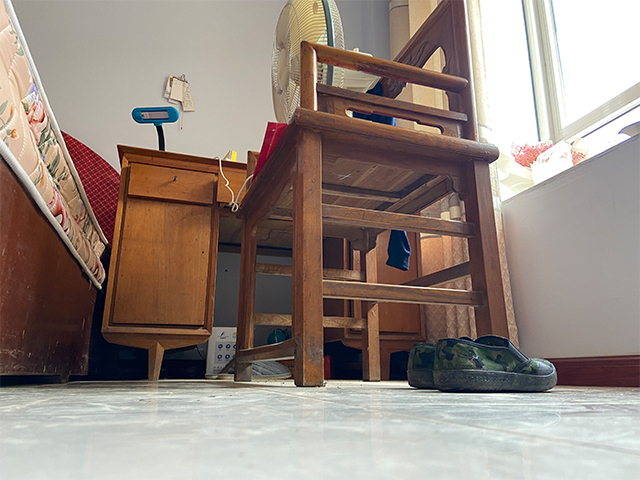bed: (1, 1, 117, 384)
curtain: (389, 1, 519, 349)
slippers: (204, 352, 294, 381)
stool: (230, 1, 510, 391)
table: (100, 143, 427, 381)
